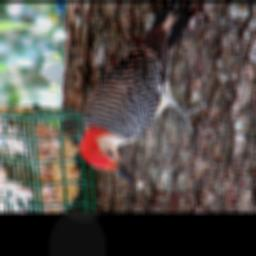Woodpecker: (79, 3, 212, 188)
